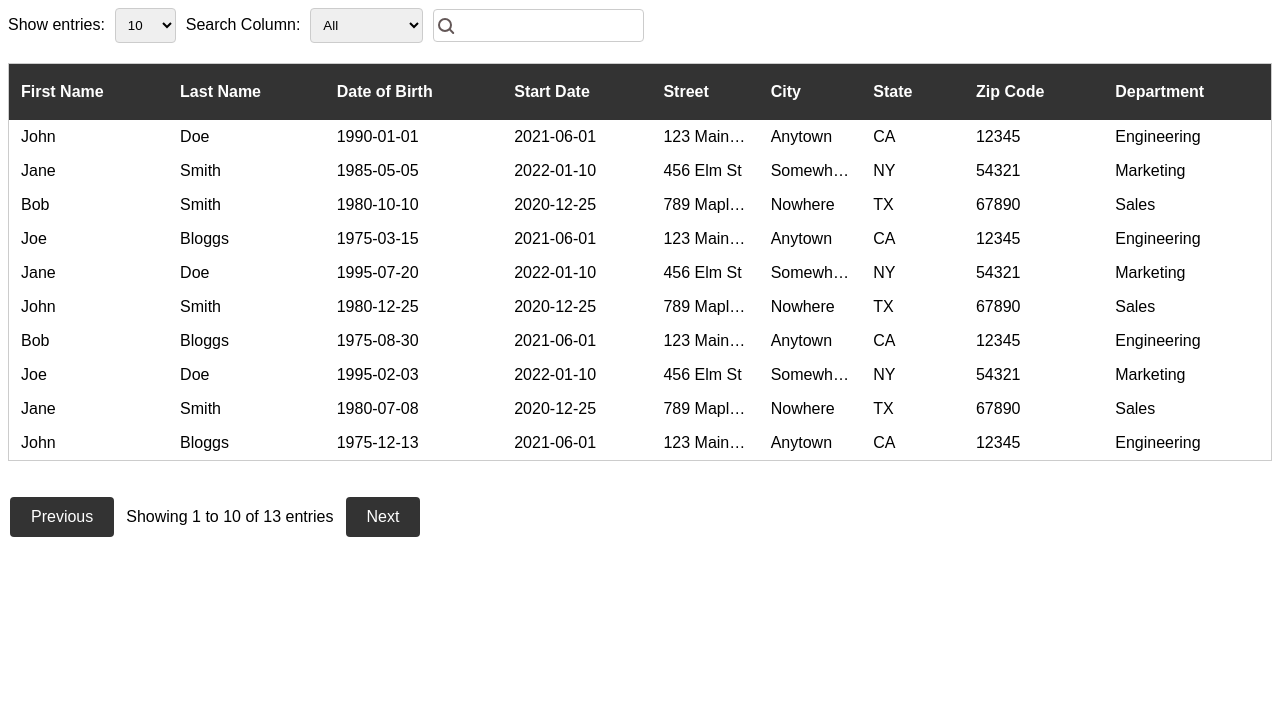
Test: ReactDataTable › filters data based on search input
Type "John" into the field at {"x": 539, "y": 25}, box [433, 9, 644, 42]
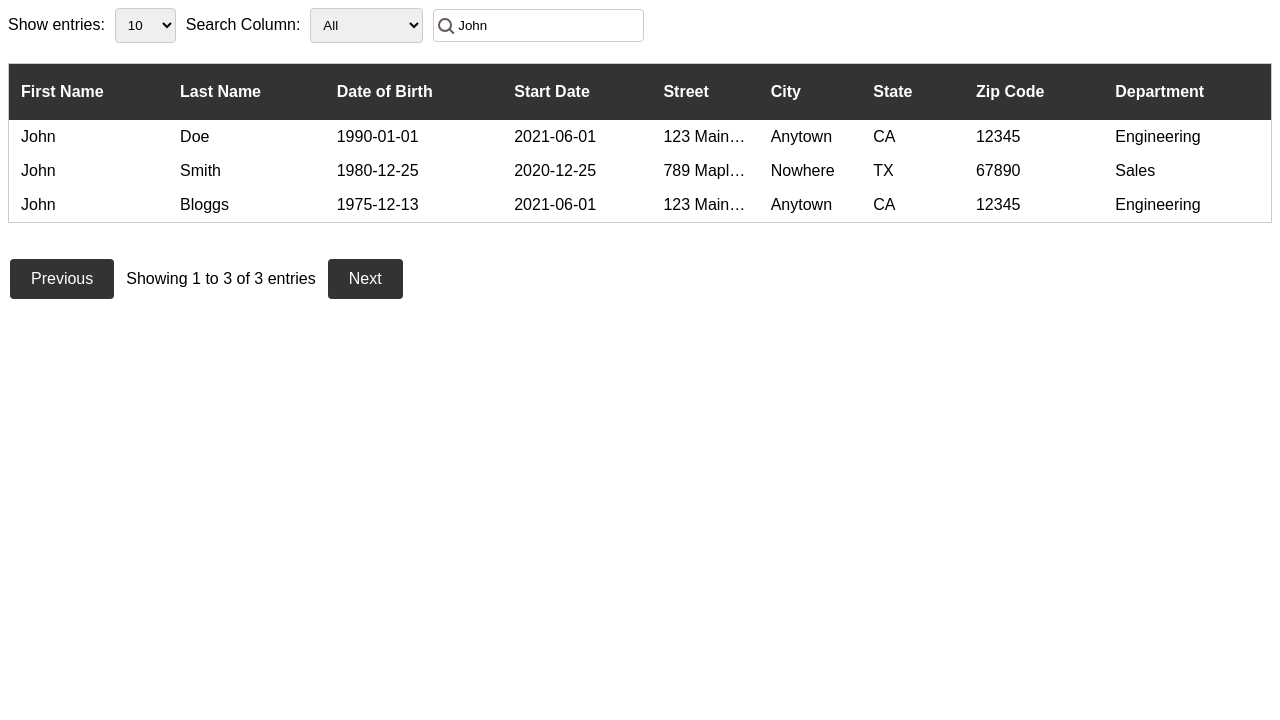
Now the text "Jane" is gone
